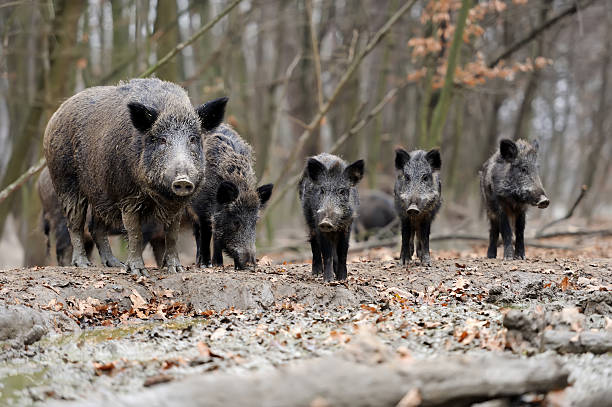pig: (118, 100, 224, 201), (214, 182, 279, 269), (294, 160, 365, 236), (485, 140, 554, 211), (382, 149, 439, 223)
